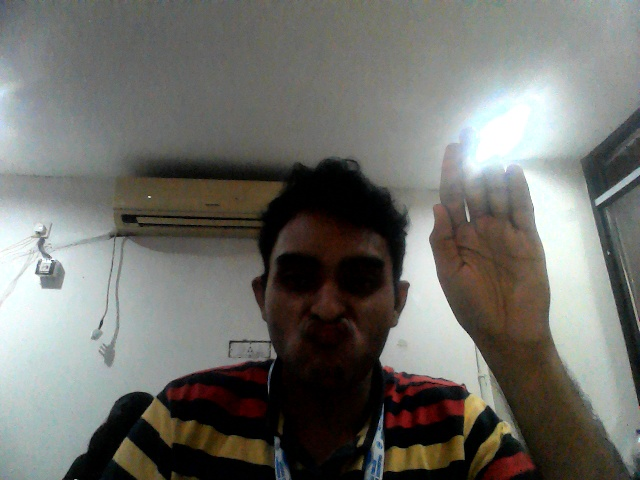palm: (426, 104, 560, 349)
